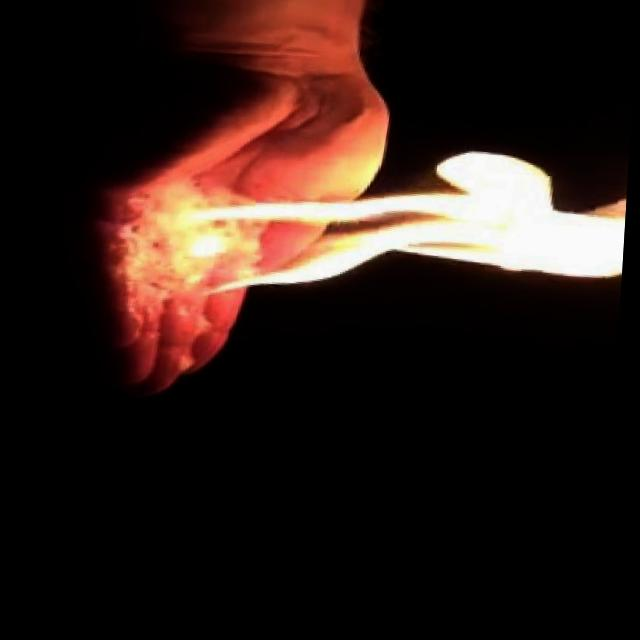helmet: (128, 109, 634, 359)
